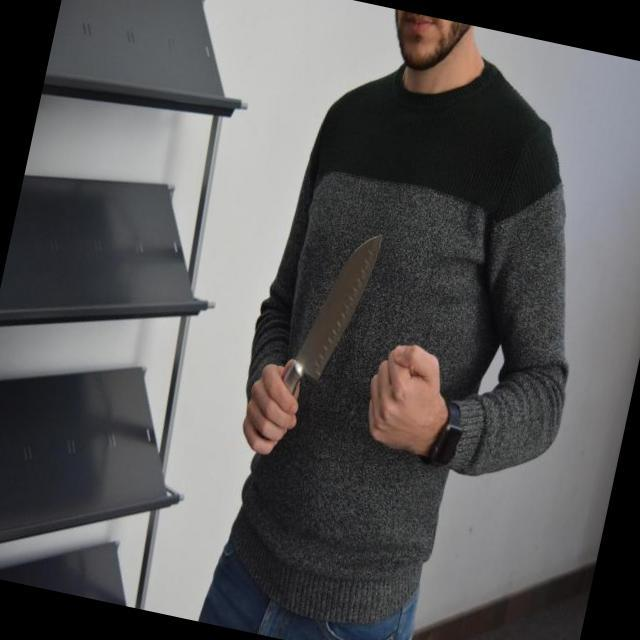Knife: (266, 210, 389, 426)
